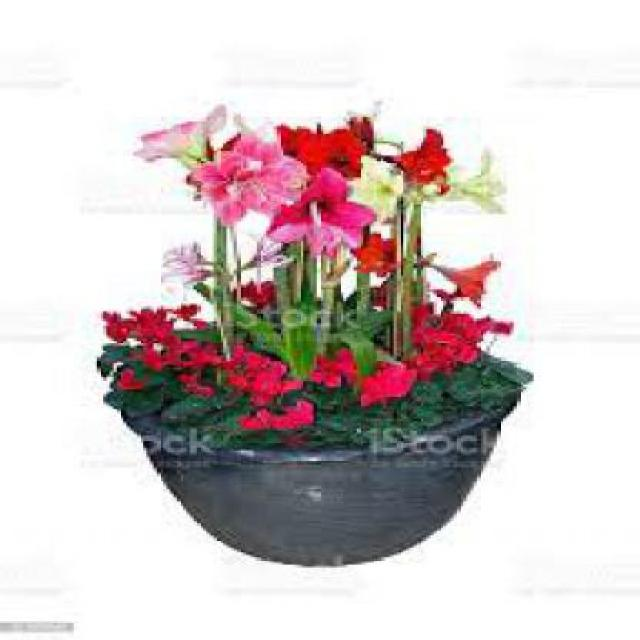Flower: (187, 134, 310, 229), (266, 168, 377, 255), (133, 105, 230, 163), (276, 124, 364, 185), (403, 129, 451, 198), (466, 151, 514, 217), (450, 258, 501, 307), (349, 233, 400, 278)
